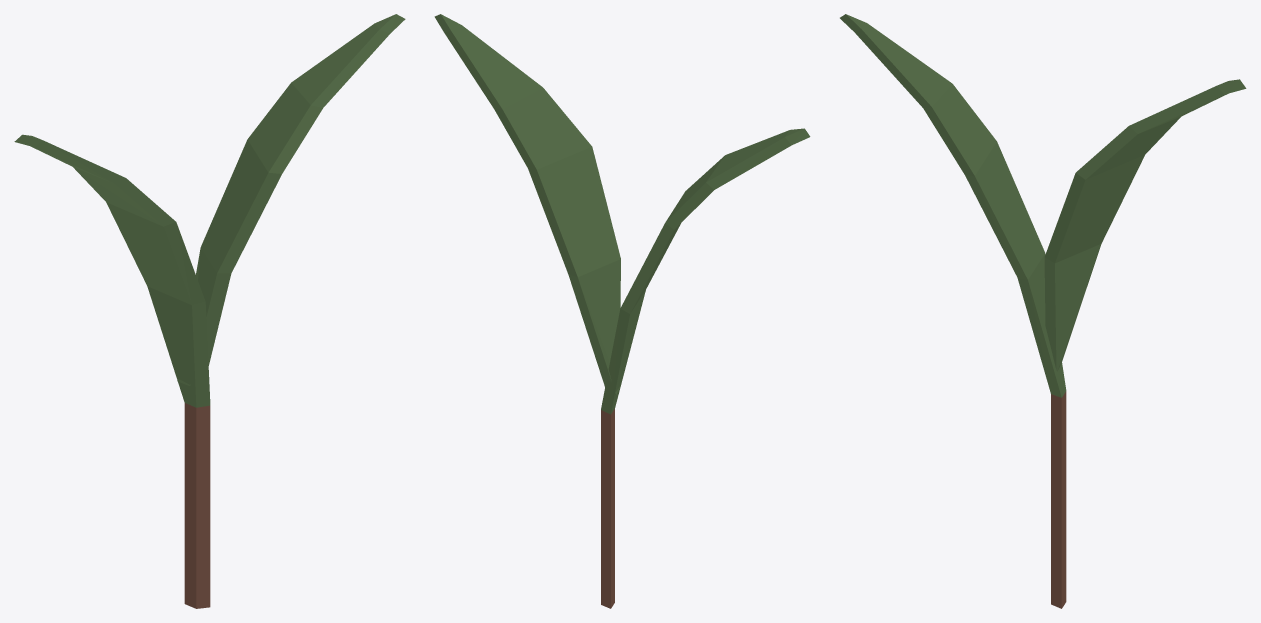
The model's file is BushBerries_1.glb.
The picture shows the model from 3 angles, left to right: view 1: azimuth 30°, elevation 25°; view 2: azimuth 150°, elevation 25°; view 3: azimuth 330°, elevation 25°; orthographic projection. The views are drawn at different scales.
Visible parts, largest first — view 1: BushBerries_1; view 2: BushBerries_1; view 3: BushBerries_1.
Part boxes in pixels (box(x1,y1,x2,y2)): BushBerries_1: box(14, 14, 405, 608); BushBerries_1: box(434, 14, 810, 608); BushBerries_1: box(840, 14, 1246, 608).
Size of the model in its own units: 0.2595 by 0.3529 by 0.0501.
